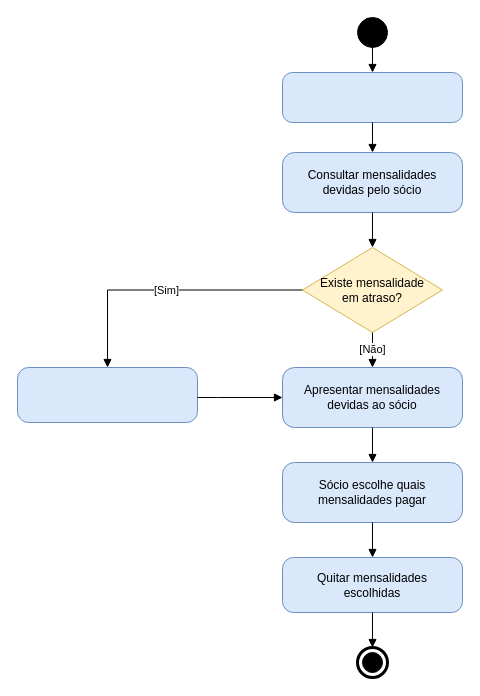
Some shapes in this 480 by 696 pixel diagram are drawn without their labels. The centre of each missing label's shape, as x and y in pixels:
Calcular juros do atraso: the point at 107,394
Consultar sócio: the point at 372,97
